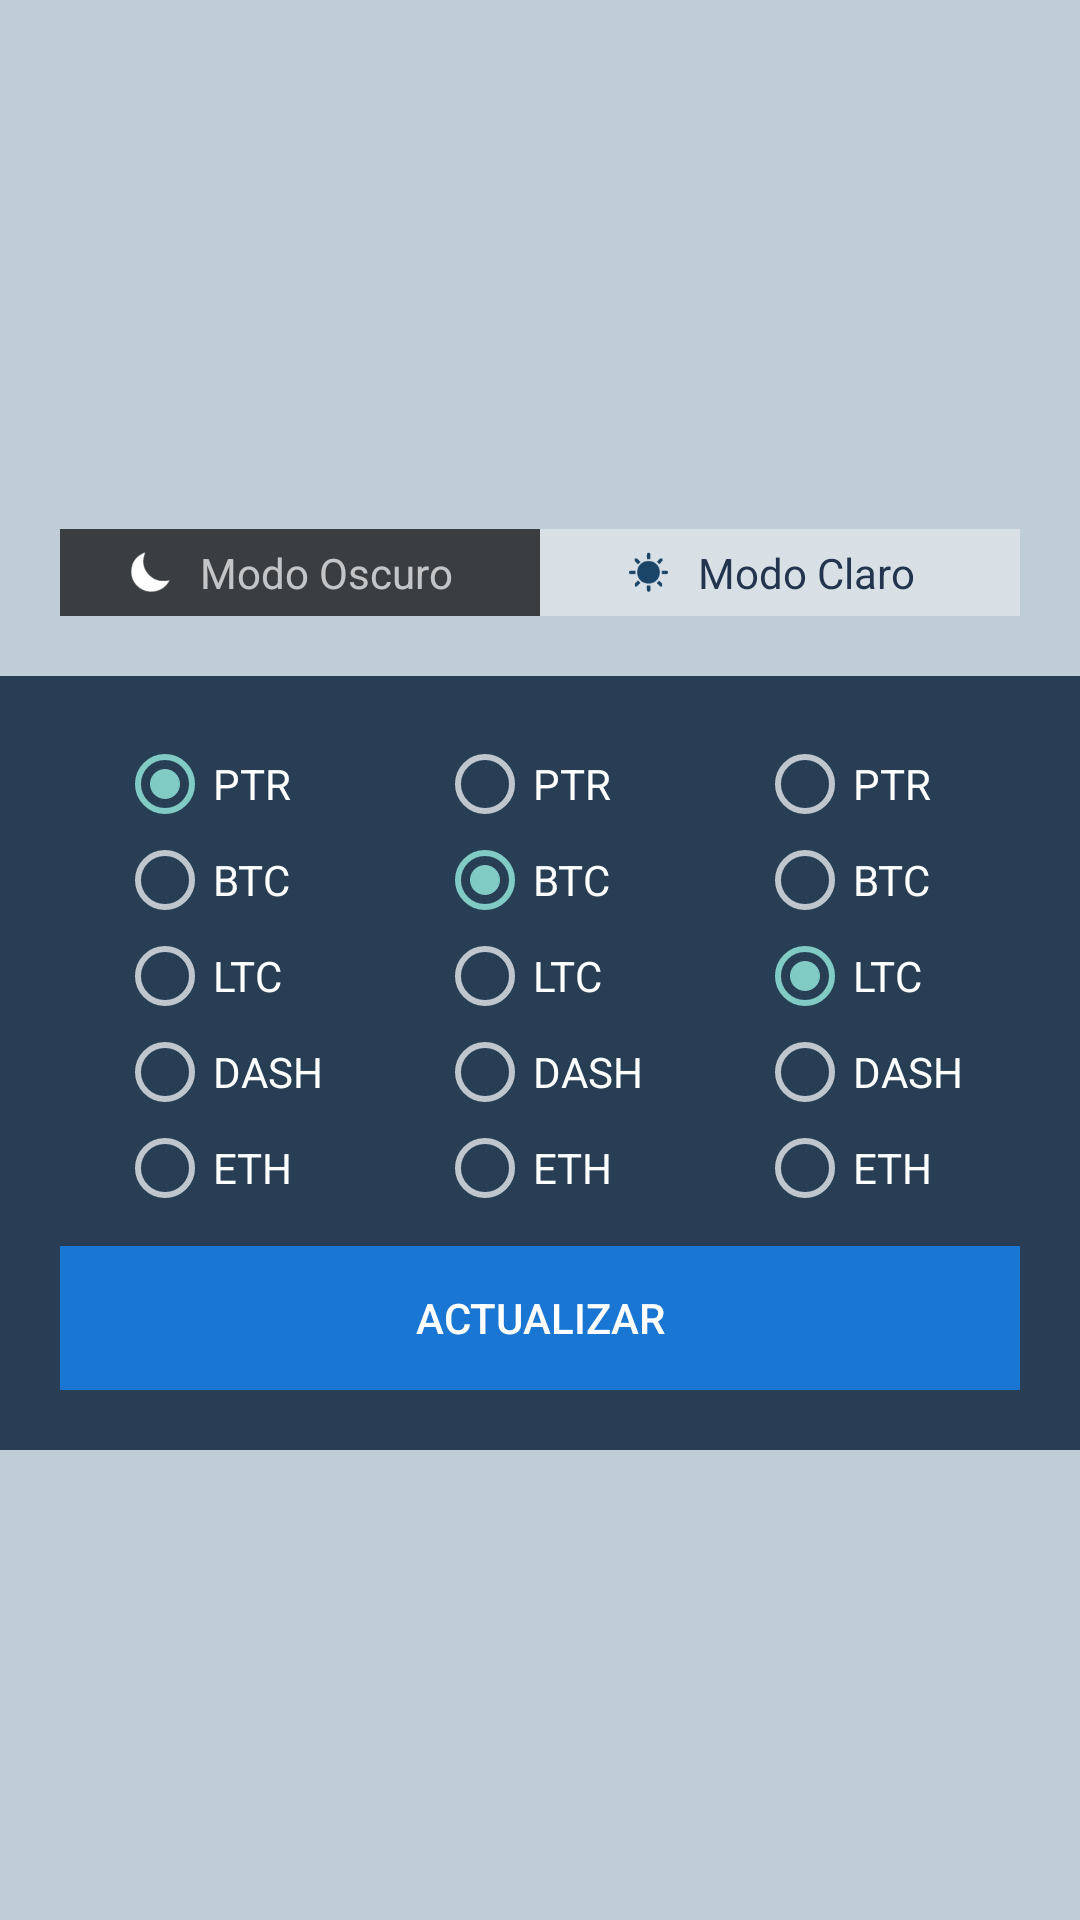

Named icons in this screenshot (1080px x 1920px) and their centers, point (x, y):
nocturno: point (150, 572)
sol: point (648, 572)
